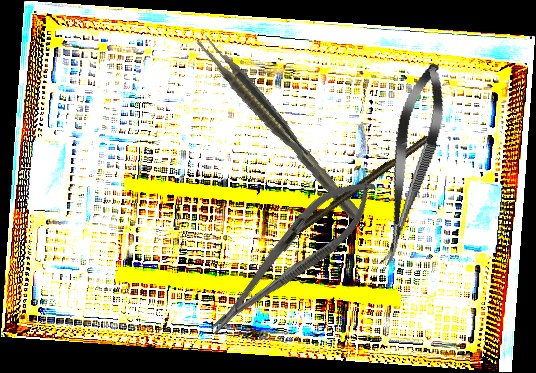Hook Surgical: (270, 134, 431, 251)
Micro Scissor: (366, 59, 455, 271)
Needle Holder: (193, 162, 390, 350)
Tissue Forceps: (193, 29, 362, 226)
